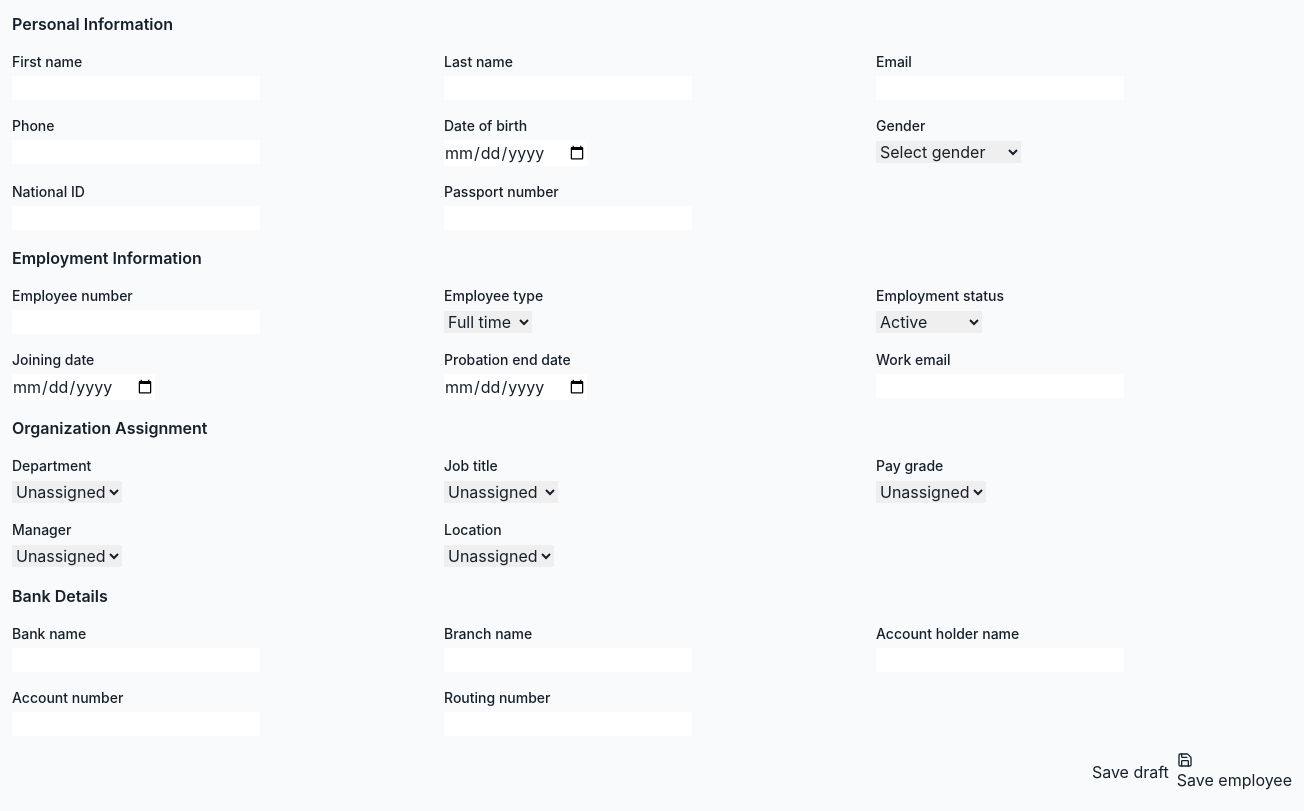
Test case: EmployeeForm validation › shows required field validation errors
Click the button "Save employee" at [1234, 772], box [1177,752,1292,792]
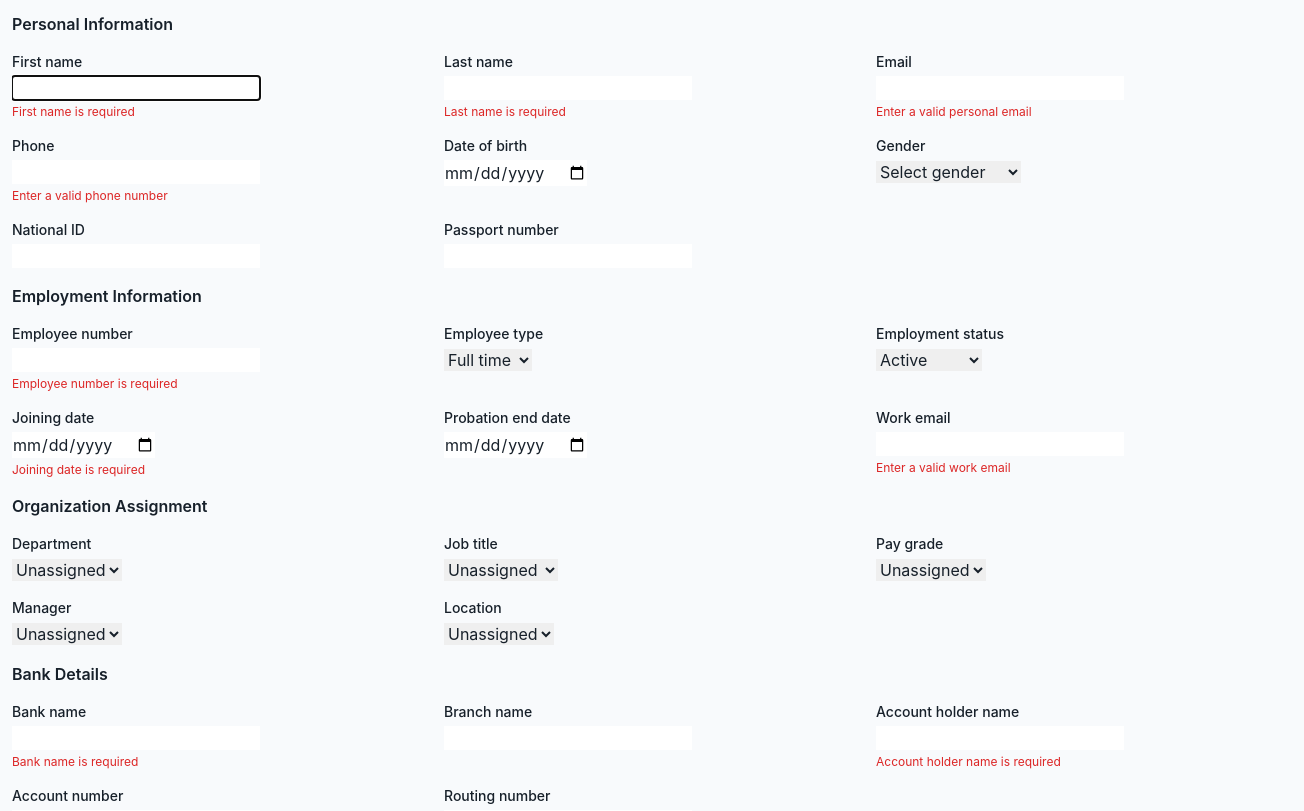
Now the text "First name is required" is shown, box [12,104,135,119]
Now the text "Employee number is required" is shown, box [12,376,178,391]
Now the text "Bank name is required" is shown, box [12,754,138,769]
